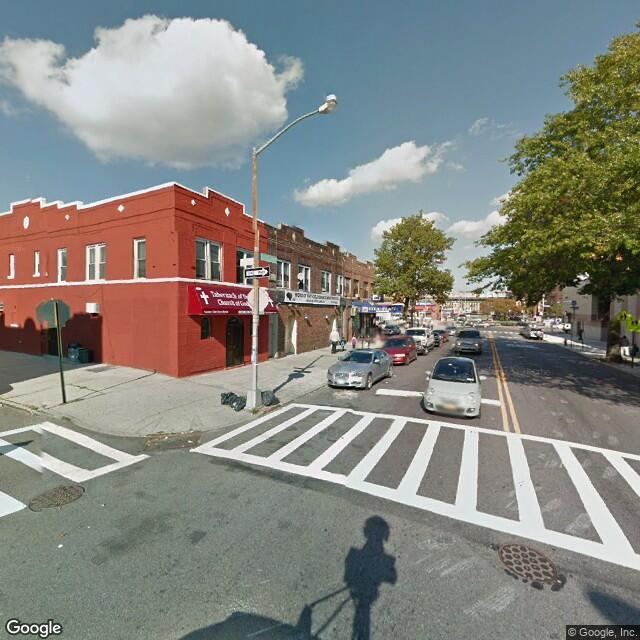litter: (98, 501, 112, 509), (53, 540, 65, 549), (83, 520, 94, 529), (161, 434, 170, 444), (185, 436, 192, 444)
